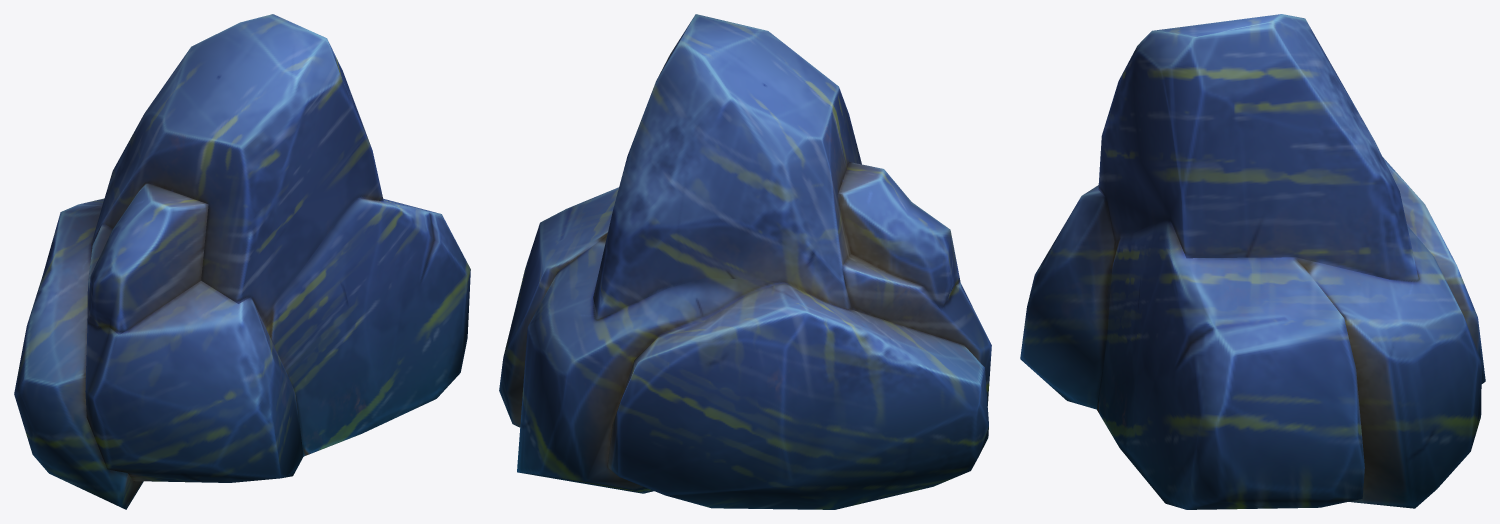
File: SM_Gem_LapisLazuli_003.fbx
3 views of the same model, side by side, from view 1: azimuth 30°, elevation 25°; view 2: azimuth 150°, elevation 25°; view 3: azimuth 270°, elevation 25° (orthographic). The views are drawn at different scales.
Visible parts, largest first — view 1: SM_Gem_LapisLazuli_003; view 2: SM_Gem_LapisLazuli_003; view 3: SM_Gem_LapisLazuli_003.
Part boxes in pixels (x1,y1,x2,y2): SM_Gem_LapisLazuli_003: [14, 14, 470, 509]; SM_Gem_LapisLazuli_003: [499, 14, 991, 509]; SM_Gem_LapisLazuli_003: [1020, 14, 1485, 509].
Bounding box in the file's own units: 63.37 × 53.79 × 51.72.
